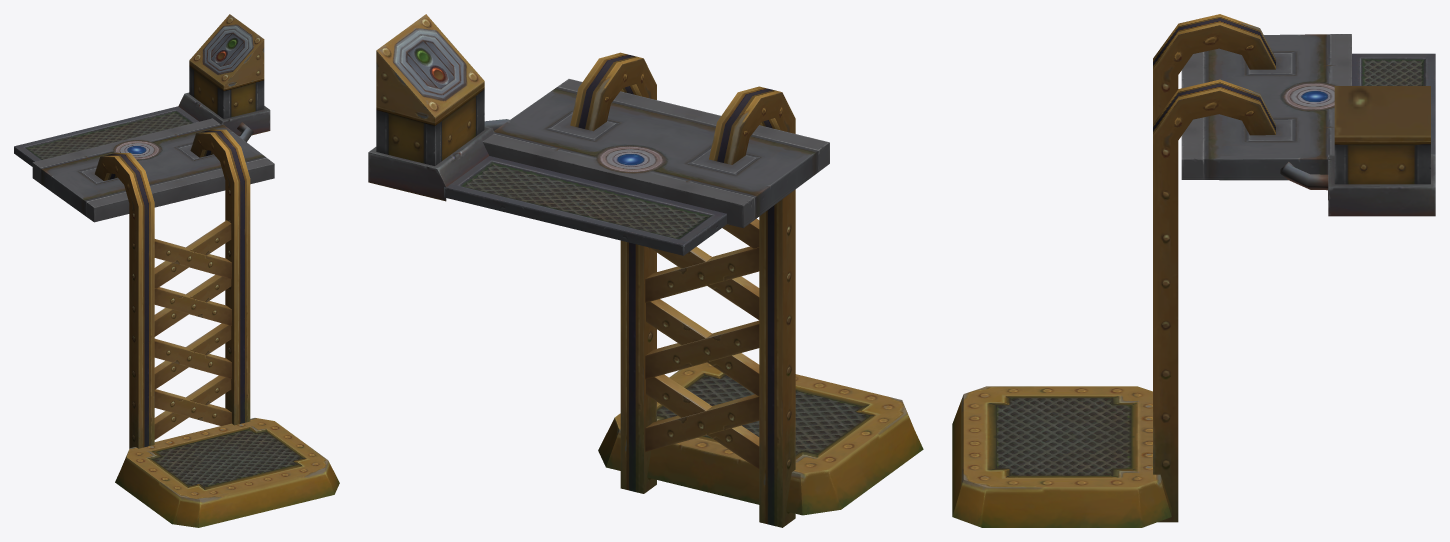
The model's file is scene_malujiakuangdao_kongzhitai01.FBX.
The picture shows the model from 3 angles, left to right: view 1: azimuth 30°, elevation 25°; view 2: azimuth 150°, elevation 25°; view 3: azimuth 270°, elevation 25°; orthographic projection. The views are drawn at different scales.
Parts seen in each view (by area): view 1: scene_malujiakuangdao_kongzhitai01; view 2: scene_malujiakuangdao_kongzhitai01; view 3: scene_malujiakuangdao_kongzhitai01.
Part boxes in pixels (x1,y1,x2,y2): scene_malujiakuangdao_kongzhitai01: (14, 14, 339, 527); scene_malujiakuangdao_kongzhitai01: (368, 14, 923, 527); scene_malujiakuangdao_kongzhitai01: (952, 14, 1435, 527).
Bounding box in the file's own units: 330 × 480 × 429.
